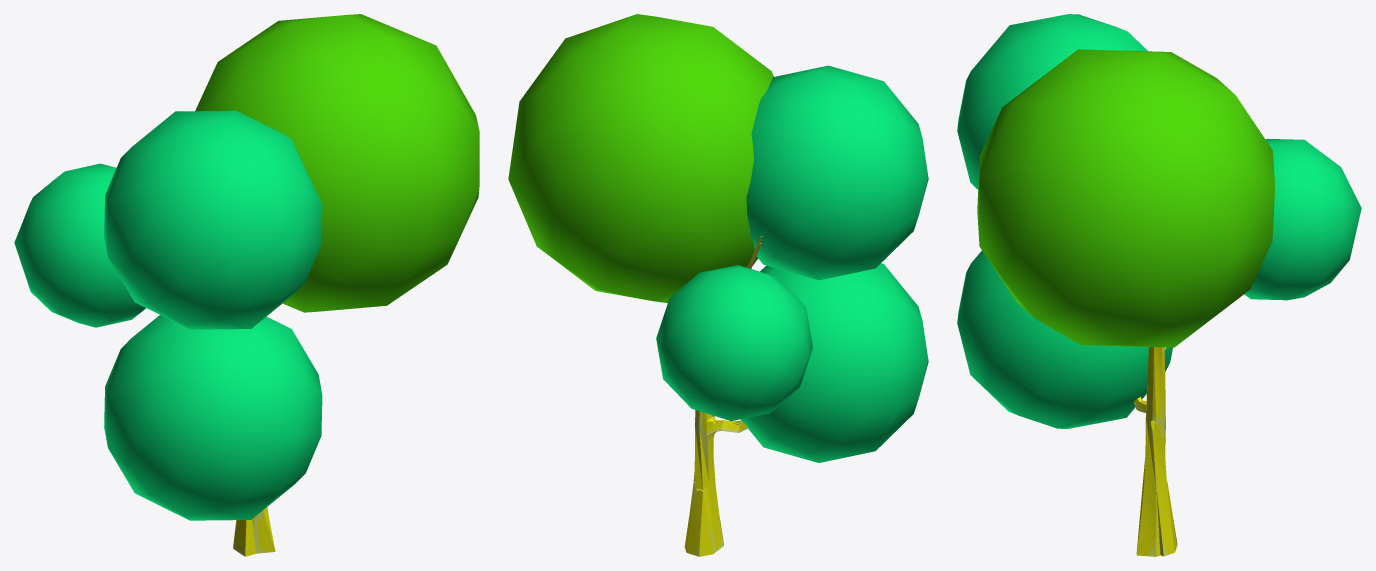
Rendered from tree1_smother.fbx.
The picture shows the model from 3 angles, left to right: view 1: azimuth 30°, elevation 25°; view 2: azimuth 150°, elevation 25°; view 3: azimuth 270°, elevation 25°; orthographic projection. The views are drawn at different scales.
Parts seen in each view (by area): view 1: pPlatonic8, pPlatonic7, pPlatonic9, pPlatonic6, branch2; view 2: pPlatonic8, pPlatonic7, pPlatonic9, pPlatonic6, branch2, branch; view 3: pPlatonic8, pPlatonic9, pPlatonic6, pPlatonic7, branch2, branch.
Part boxes in pixels (x1,y1,x2,y2): pPlatonic8: [195, 14, 479, 312]; pPlatonic7: [104, 110, 322, 329]; pPlatonic9: [104, 315, 322, 520]; pPlatonic6: [14, 163, 145, 327]; branch2: [233, 507, 275, 556]; pPlatonic8: [508, 14, 773, 303]; pPlatonic7: [746, 65, 928, 280]; pPlatonic9: [741, 263, 928, 462]; pPlatonic6: [656, 265, 812, 420]; branch2: [684, 236, 762, 556]; branch: [685, 243, 761, 556]; pPlatonic8: [977, 49, 1274, 347]; pPlatonic9: [957, 251, 1172, 428]; pPlatonic6: [1244, 139, 1361, 300]; pPlatonic7: [957, 14, 1147, 189]; branch2: [1134, 347, 1177, 556]; branch: [1134, 347, 1176, 556].
Bounding box in the file's own units: 935 × 1237 × 874.
